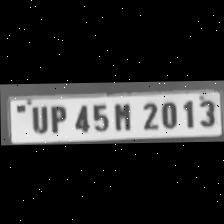0: (158, 98, 178, 128)
1: (178, 96, 196, 127)
2: (136, 99, 160, 130)
3: (196, 96, 216, 126)
4: (68, 100, 90, 130)
5: (88, 99, 110, 130)
M: (109, 99, 134, 130)
P: (45, 102, 67, 132)
U: (26, 102, 48, 133)
